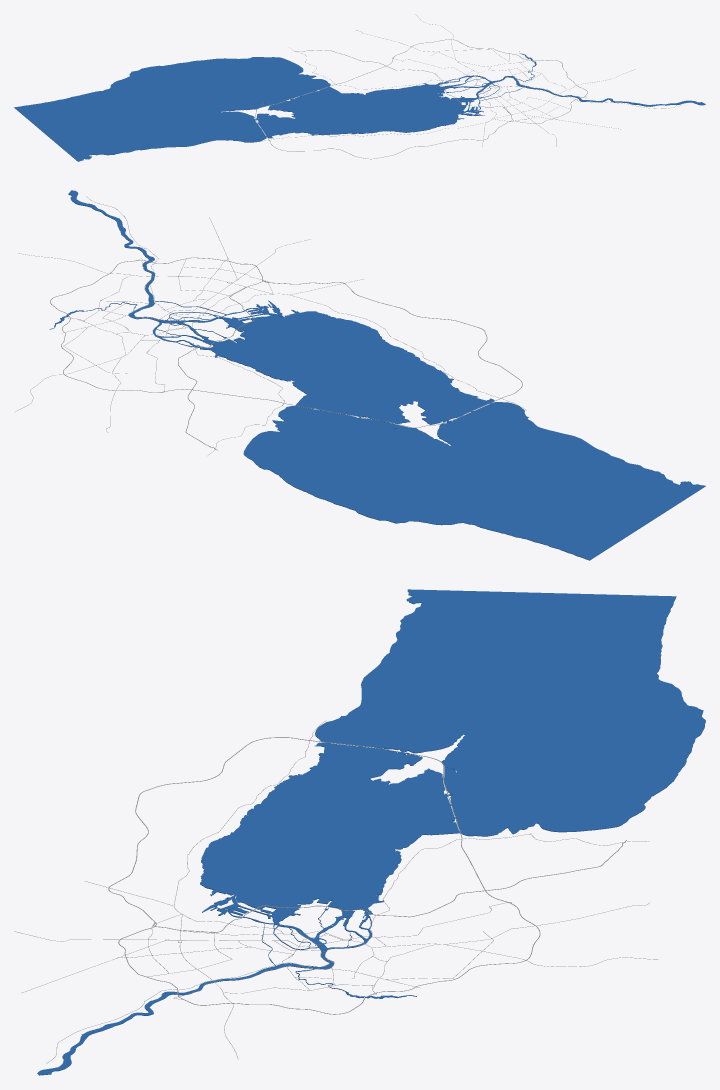
Rendered from mapspb_342631_6664090_36N.FBX.
The picture shows the model from 3 angles, top to bottom: view 1: azimuth 30°, elevation 25°; view 2: azimuth 150°, elevation 25°; view 3: azimuth 270°, elevation 25°; orthographic projection. The views are drawn at different scales.
Parts seen in each view (by area): view 1: water_model, primary_model, KAD_ZSD_model; view 2: water_model, primary_model, KAD_ZSD_model; view 3: water_model, primary_model, KAD_ZSD_model.
Boxes of the visible parts, x1=… form: water_model: x1=14, y1=51, x2=705, y2=161; primary_model: x1=245, y1=14, x2=681, y2=146; KAD_ZSD_model: x1=255, y1=39, x2=587, y2=159; water_model: x1=49, y1=190, x2=705, y2=560; primary_model: x1=14, y1=196, x2=526, y2=455; KAD_ZSD_model: x1=50, y1=257, x2=522, y2=450; water_model: x1=37, y1=589, x2=705, y2=1075; primary_model: x1=14, y1=720, x2=657, y2=1063; KAD_ZSD_model: x1=108, y1=737, x2=626, y2=1014.
Size of the model in its own units: 88151 by 212 by 53086.
